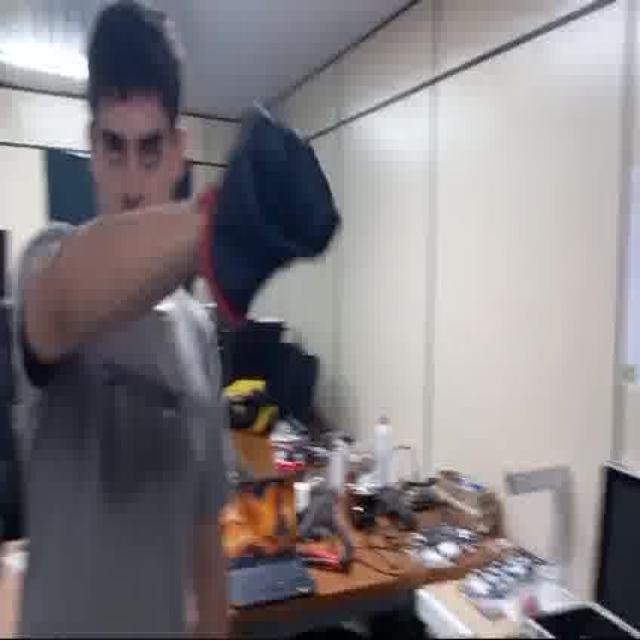Gloves: (198, 92, 334, 298)
